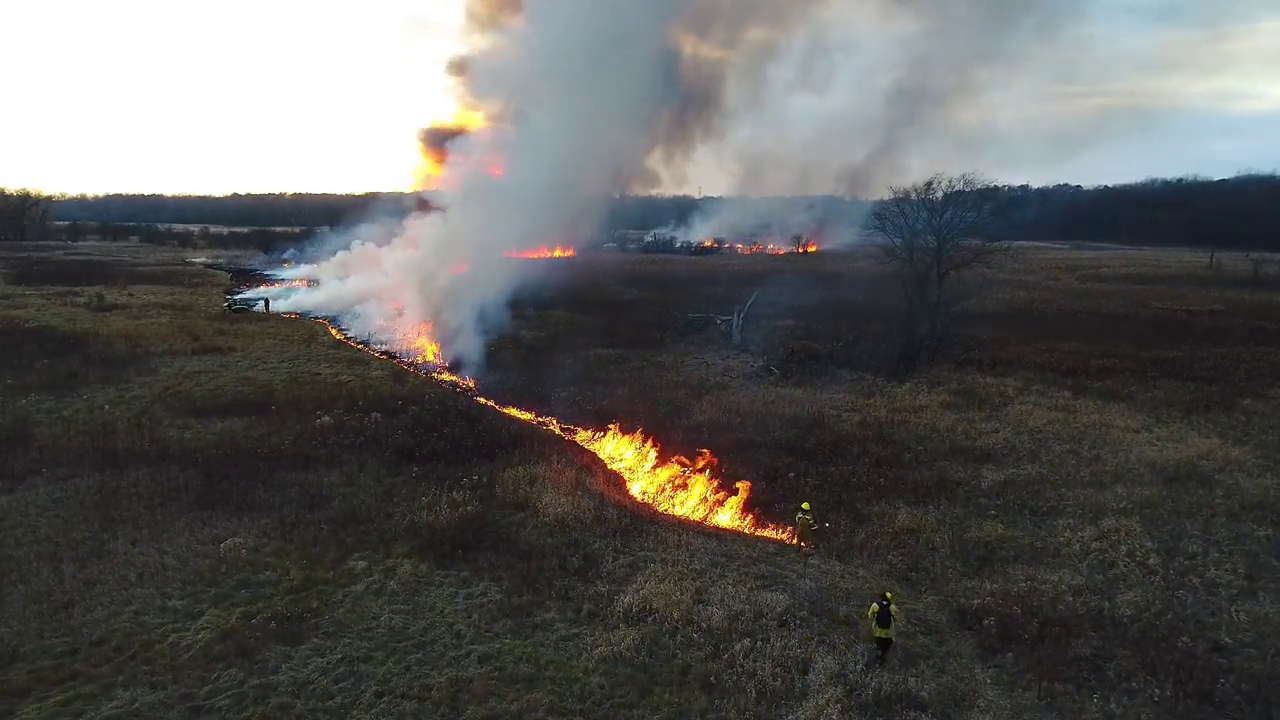forest_fire: (309, 318, 793, 542), (729, 240, 795, 255), (504, 245, 575, 256), (800, 243, 815, 253), (287, 312, 304, 317)
